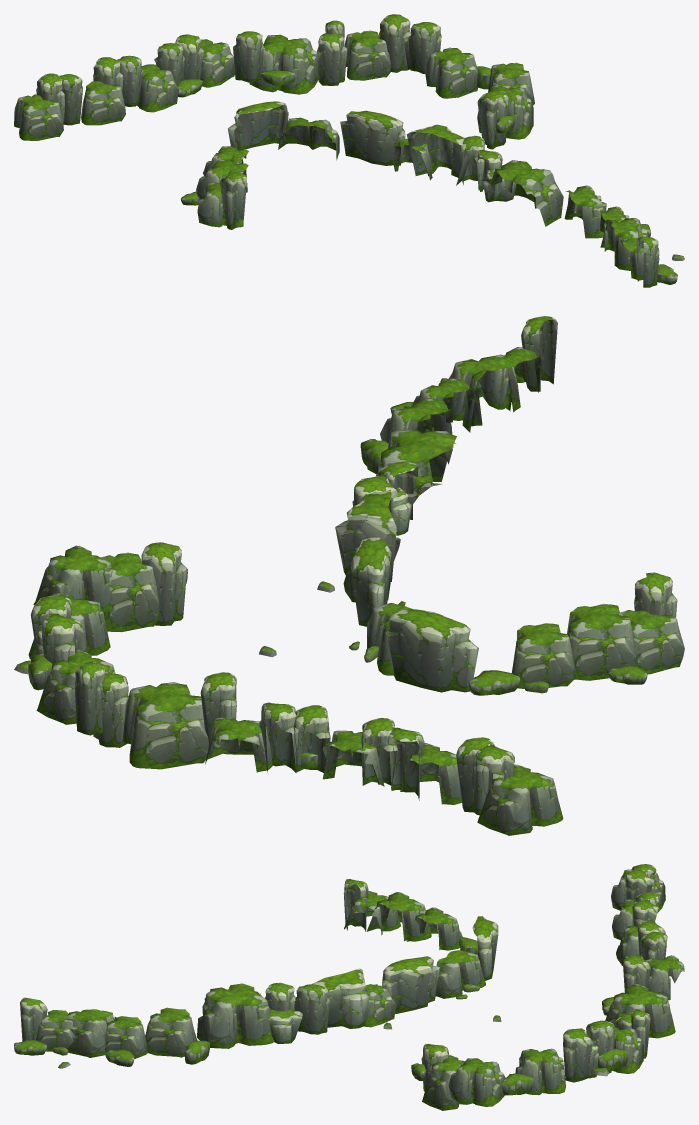
The model's file is lvyanshi_04.fbx.
3 renders of one model, top to bottom at view 1: azimuth 30°, elevation 25°; view 2: azimuth 150°, elevation 25°; view 3: azimuth 270°, elevation 25°, orthographic. The views are drawn at different scales.
Parts seen in each view (by area): view 1: polySurface361; view 2: polySurface361; view 3: polySurface361.
Boxes of the visible parts, x1,y1,x2,y2 form: polySurface361: (14, 14, 684, 287); polySurface361: (14, 316, 684, 835); polySurface361: (14, 864, 684, 1110).
Size of the model in its own units: 10309 by 1625 by 14069.
